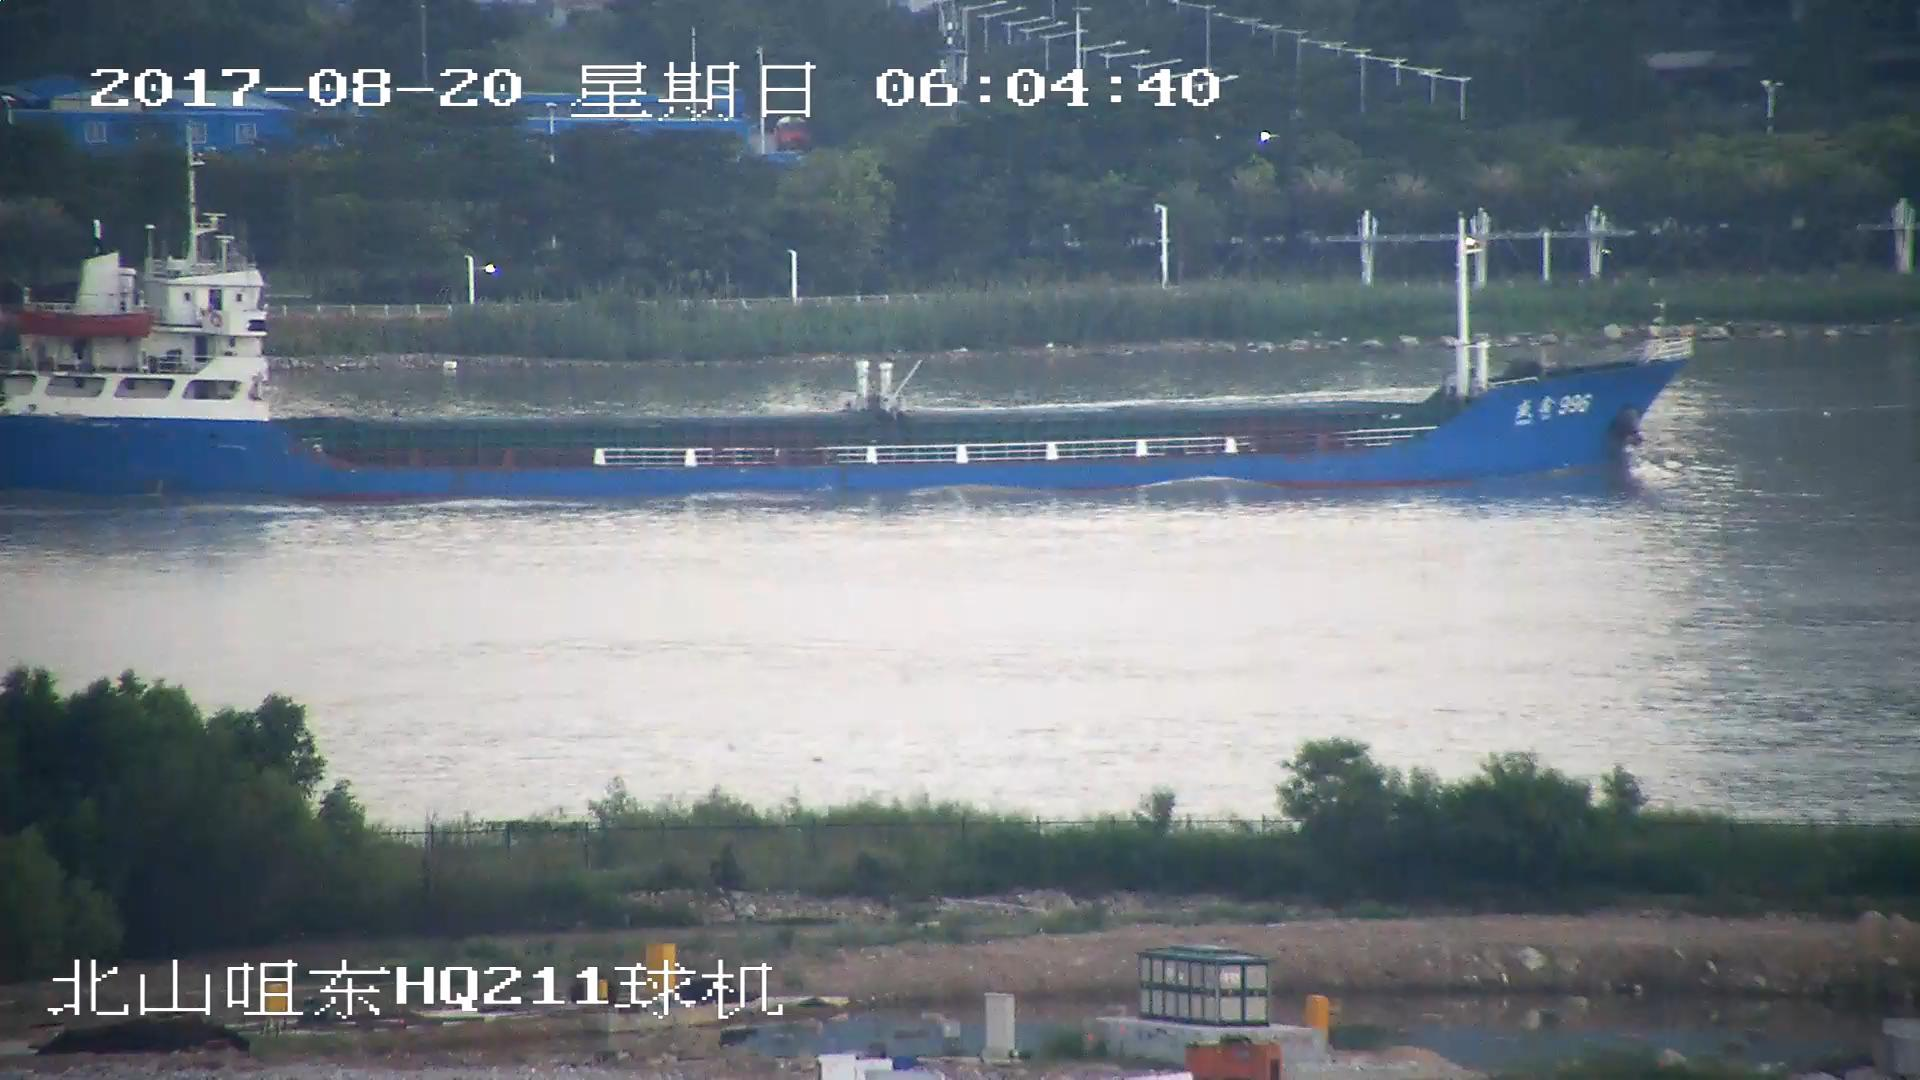Ship: (3, 131, 1700, 493)
